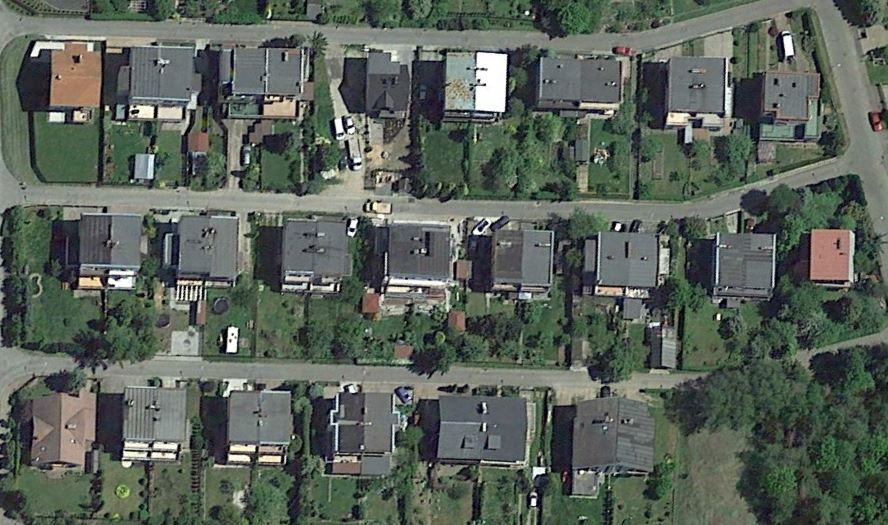family house: (567, 392, 664, 499), (429, 393, 534, 470), (321, 386, 406, 477), (60, 210, 147, 295), (220, 43, 307, 126), (273, 214, 354, 300), (534, 50, 627, 124), (25, 384, 102, 473), (122, 41, 197, 128), (114, 381, 195, 461), (224, 386, 300, 471), (40, 35, 109, 127), (382, 219, 456, 303), (705, 226, 782, 305), (752, 69, 832, 145), (659, 51, 734, 131), (168, 208, 242, 289), (441, 46, 512, 130), (583, 230, 664, 301), (488, 226, 559, 297), (799, 223, 862, 290), (364, 46, 411, 124)
